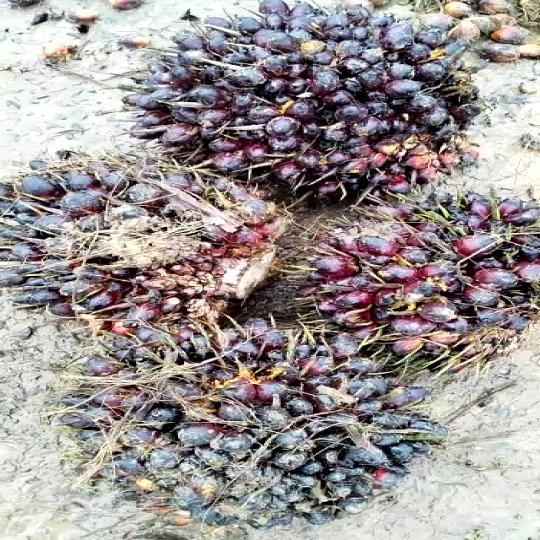kurang masak: (40, 318, 462, 536), (127, 0, 510, 211), (0, 155, 307, 322), (297, 186, 540, 368)
